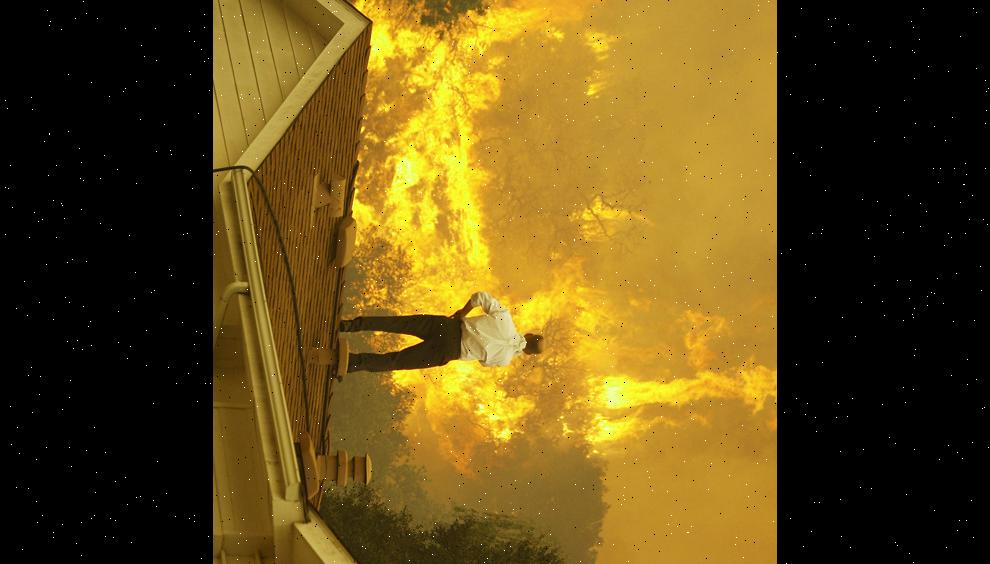fire: (353, 0, 640, 286), (550, 303, 777, 476), (409, 364, 528, 466)
